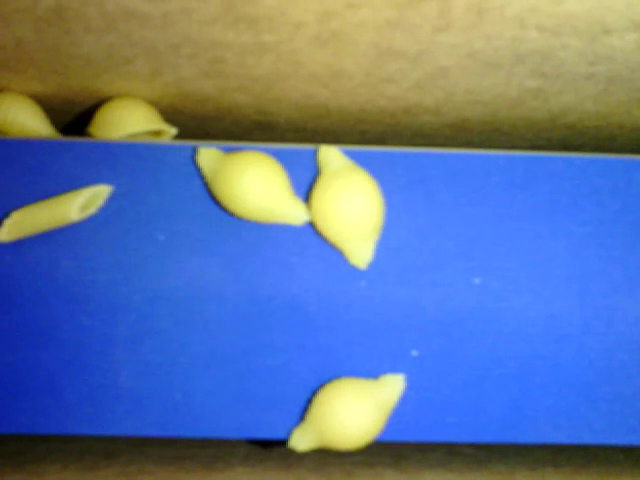penne: (1, 182, 114, 241)
shell: (288, 370, 408, 453), (306, 138, 382, 269), (192, 146, 311, 227), (86, 93, 177, 143), (1, 80, 70, 143)
